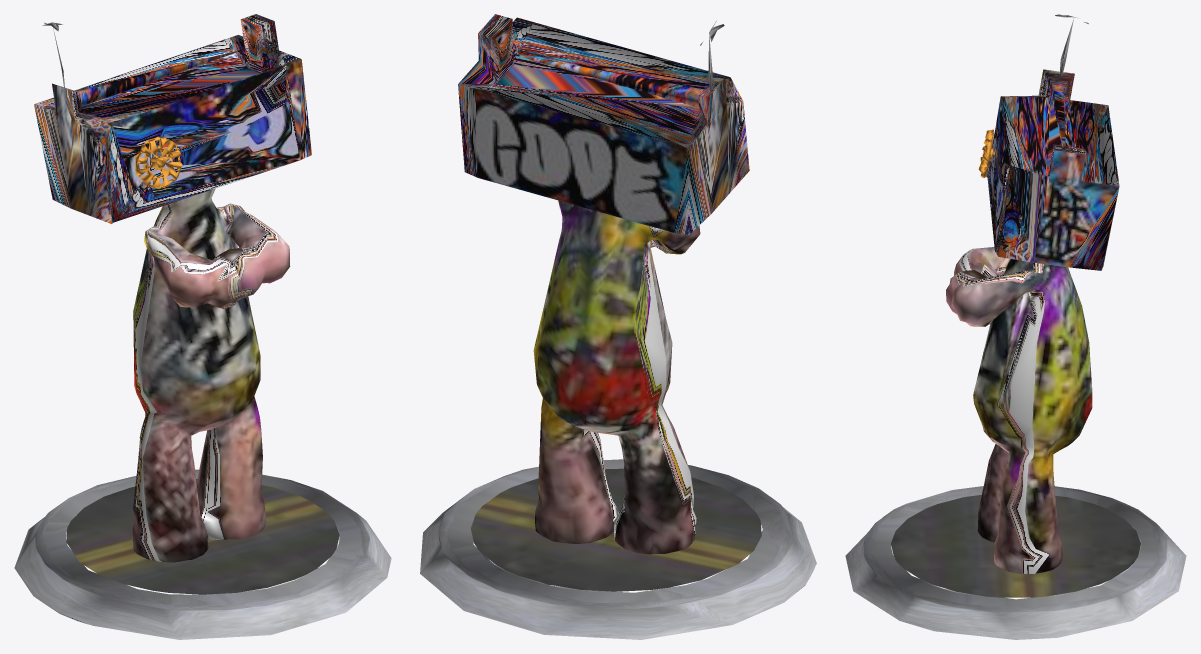
The picture shows the model from 3 angles, left to right: view 1: azimuth 30°, elevation 25°; view 2: azimuth 150°, elevation 25°; view 3: azimuth 270°, elevation 25°; orthographic projection. The views are drawn at different scales.
Bounding box in the file's own units: 1.45 × 2.32 × 1.43.
Materials: 6 (5 with a texture image).
